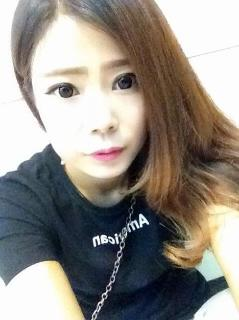short sleeve top: (0, 119, 239, 319)
